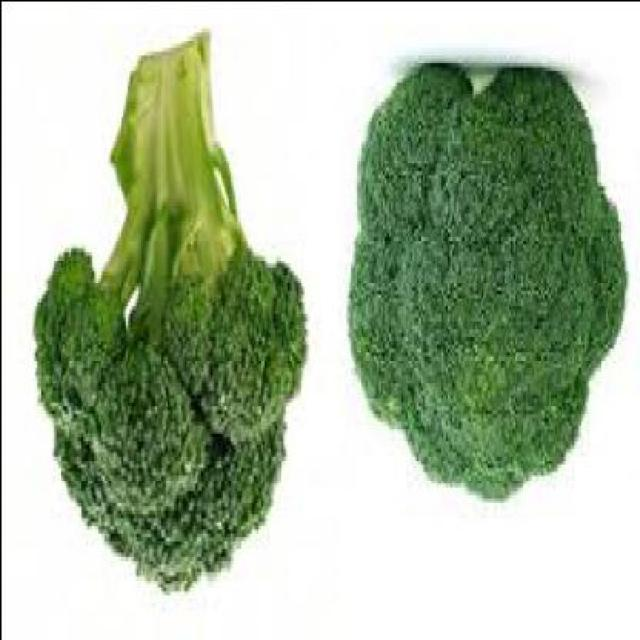BIODEGRADABLE: (25, 31, 302, 609), (345, 69, 623, 509)
